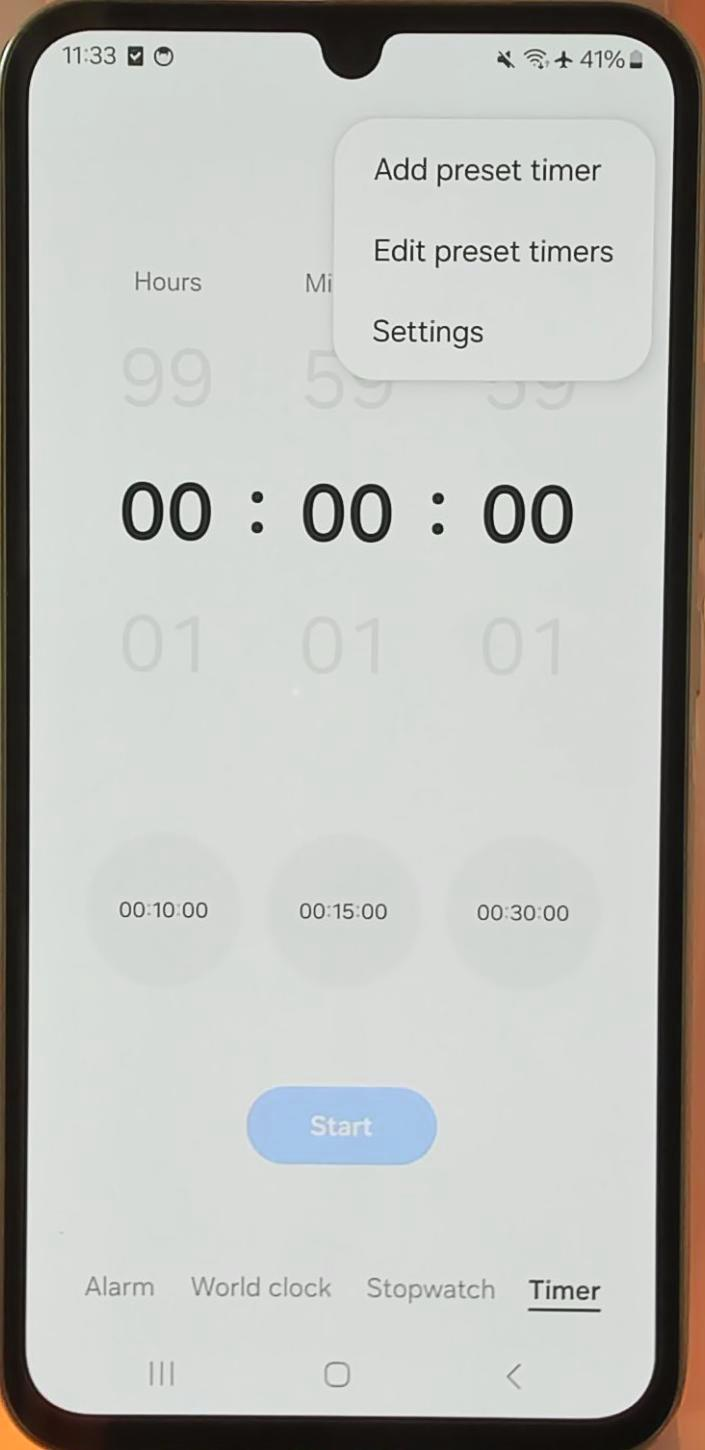CommunBotton: (360, 226, 630, 278), (362, 148, 614, 190), (354, 306, 500, 366)
